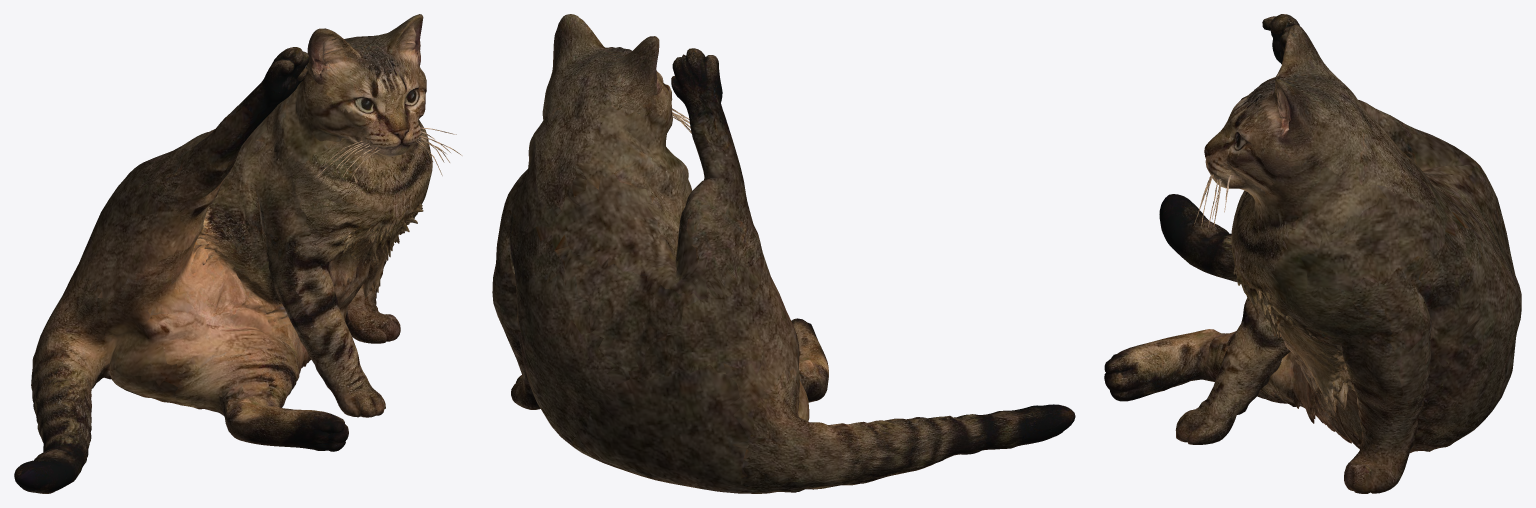
File: marcelo.glb
3 renders of one model, left to right at view 1: azimuth 30°, elevation 25°; view 2: azimuth 150°, elevation 25°; view 3: azimuth 270°, elevation 25°, orthographic. The views are drawn at different scales.
Visible parts, largest first — view 1: cat.obj; view 2: cat.obj; view 3: cat.obj.
Boxes of the visible parts, x1,y1,x2,y2 form: cat.obj: (14,14,462,493); cat.obj: (492,14,1075,493); cat.obj: (1104,14,1521,493).
Size of the model in its own units: 1.9 by 1.35 by 1.24.
1 material, 1 textured.
